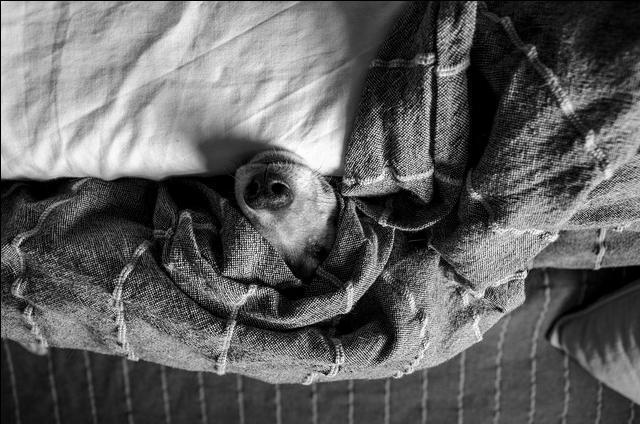Non_Gorille: (26, 0, 602, 411)
